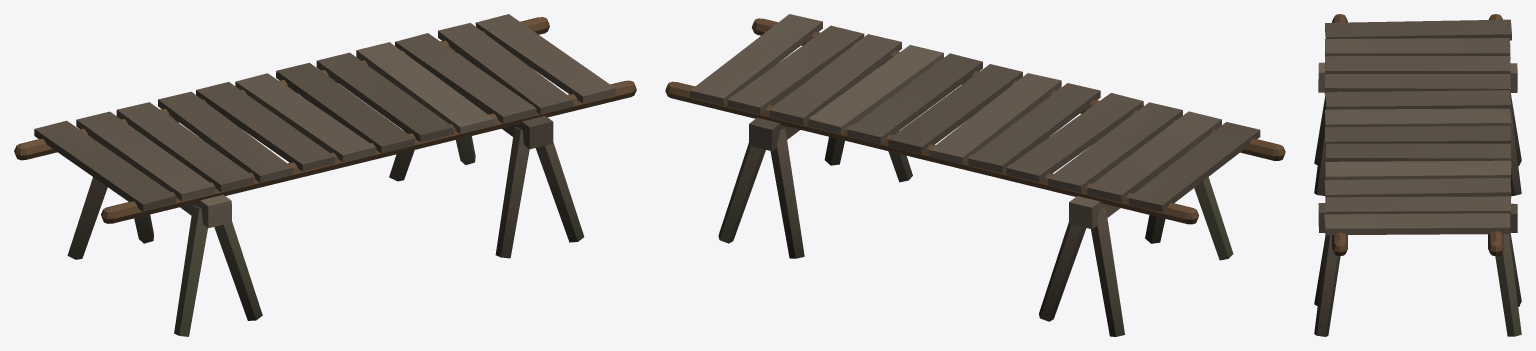
File: ph_prop_dropoff_bier.glb
3 renders of one model, left to right at view 1: azimuth 30°, elevation 25°; view 2: azimuth 150°, elevation 25°; view 3: azimuth 270°, elevation 25°, orthographic. The views are drawn at different scales.
Visible parts, largest first — view 1: ph_prop_dropoff_bier; view 2: ph_prop_dropoff_bier; view 3: ph_prop_dropoff_bier.
Part boxes in pixels (box(x1,y1,x2,y2)): ph_prop_dropoff_bier: box(14, 14, 636, 336); ph_prop_dropoff_bier: box(665, 14, 1285, 336); ph_prop_dropoff_bier: box(1314, 14, 1521, 336).
Bounding box in the file's own units: 2.06 × 0.5209 × 0.7728.
